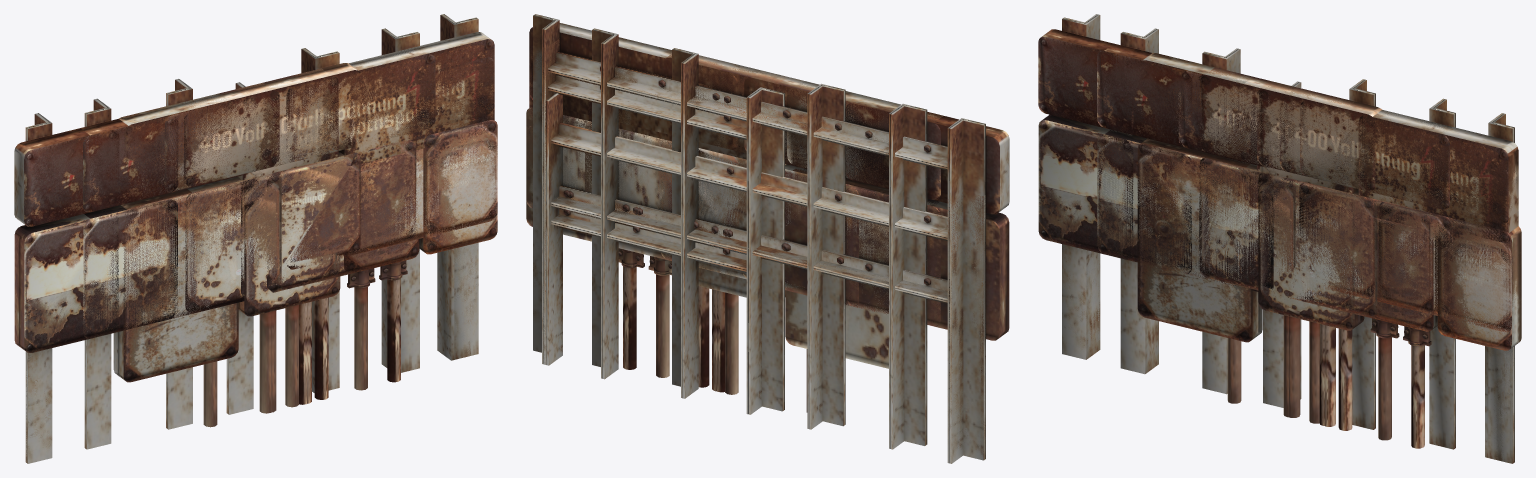
File: fuse_box_0010.fbx
3 views of the same model, side by side, from view 1: azimuth 30°, elevation 25°; view 2: azimuth 150°, elevation 25°; view 3: azimuth 330°, elevation 25° (orthographic).
Visible parts, largest first — view 1: fuse_box_0010a, fuse_box_0010b, fuse_box_0010d, fuse_box_0010c, fuse_box_0010e; view 2: fuse_box_0010a, fuse_box_0010b, fuse_box_0010c, fuse_box_0010d, fuse_box_0010e; view 3: fuse_box_0010a, fuse_box_0010b, fuse_box_0010c, fuse_box_0010d, fuse_box_0010e.
Boxes of the visible parts, x1,y1,x2,y2 form: fuse_box_0010a: (14,14,497,463); fuse_box_0010b: (80,28,438,449); fuse_box_0010d: (226,34,497,414); fuse_box_0010c: (164,48,360,429); fuse_box_0010e: (26,121,492,463); fuse_box_0010a: (526,14,1009,463); fuse_box_0010b: (585,28,943,449); fuse_box_0010c: (660,48,859,429); fuse_box_0010d: (526,34,786,414); fuse_box_0010e: (529,93,985,463); fuse_box_0010a: (1038,14,1521,463); fuse_box_0010b: (1097,28,1455,449); fuse_box_0010c: (1178,48,1381,429); fuse_box_0010d: (1257,81,1521,462); fuse_box_0010e: (1062,204,1509,462).
Bounding box in the file's own units: 69.88 × 47.22 × 6.07.
